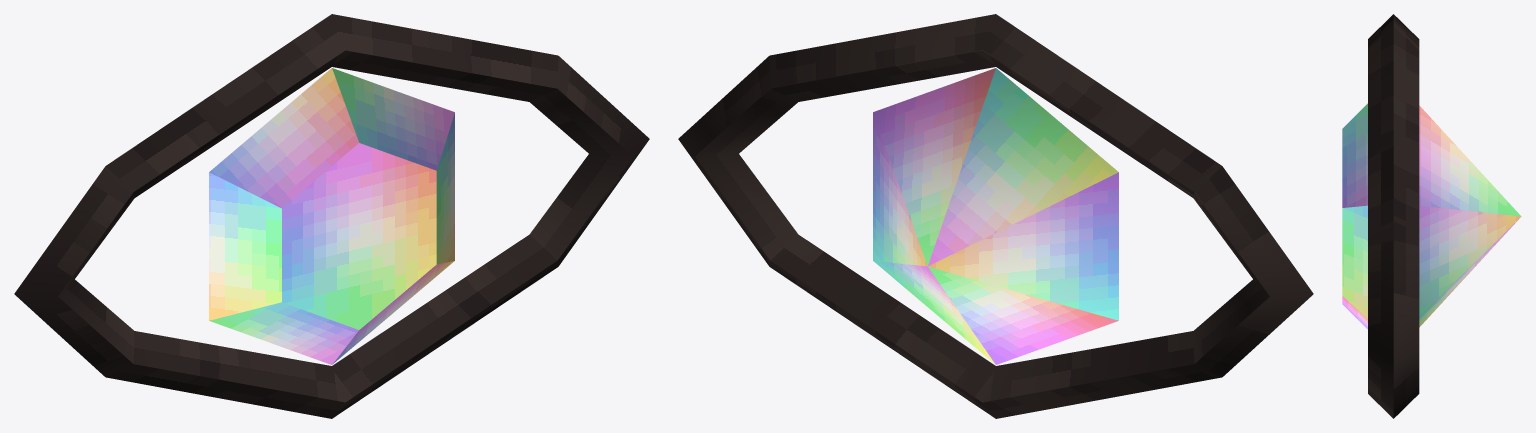
Rendered from monitoring_crystal.obj.
3 views of the same model, side by side, from view 1: azimuth 30°, elevation 25°; view 2: azimuth 150°, elevation 25°; view 3: azimuth 270°, elevation 25° (orthographic). The views are drawn at different scales.
Parts seen in each view (by area): view 1: Shell, Iris; view 2: Shell, Iris; view 3: Shell, Iris.
Boxes of the visible parts, <box> form: Shell: <box>14,14,649,418</box>; Iris: <box>209,68,454,364</box>; Shell: <box>678,14,1313,418</box>; Iris: <box>873,68,1118,364</box>; Shell: <box>1368,14,1419,418</box>; Iris: <box>1342,103,1521,329</box>.
Bounding box in the file's own units: 0.6609 × 0.4023 × 0.1722.
